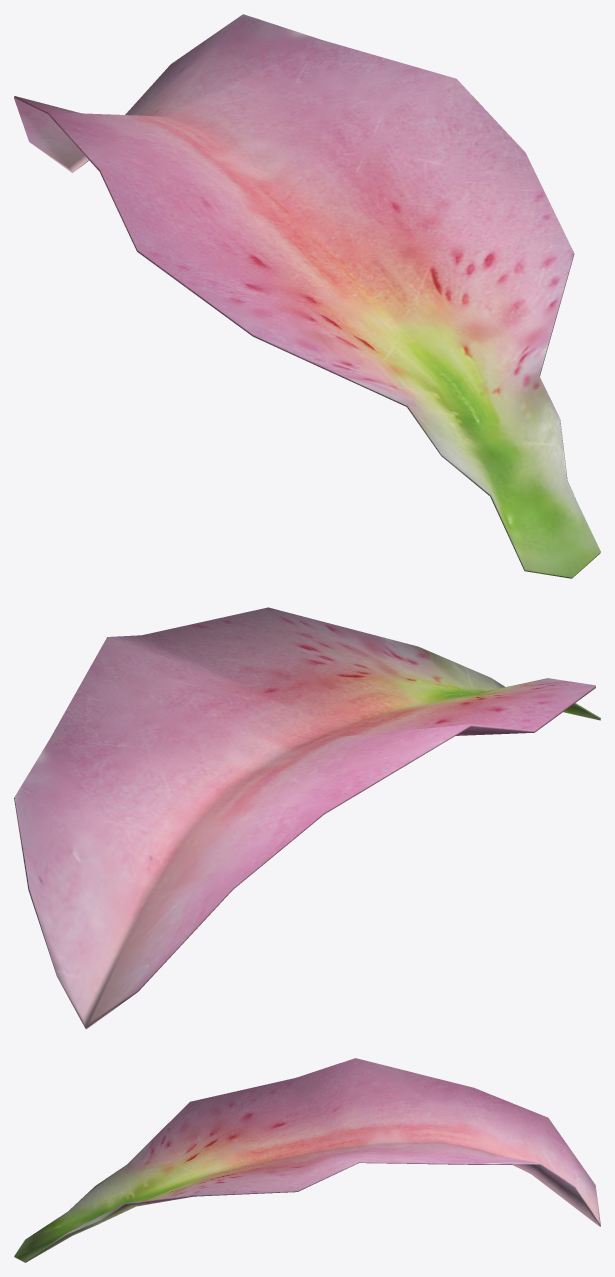
Rendered from Lily_PetalB_2.gltf.
The picture shows the model from 3 angles, top to bottom: view 1: azimuth 30°, elevation 25°; view 2: azimuth 150°, elevation 25°; view 3: azimuth 270°, elevation 25°; orthographic projection. The views are drawn at different scales.
Visible parts, largest first — view 1: PetalB.002; view 2: PetalB.002; view 3: PetalB.002.
Part boxes in pixels (left/top/right/bottom): PetalB.002: left=14, top=14, right=600, bottom=578; PetalB.002: left=14, top=607, right=600, bottom=1029; PetalB.002: left=14, top=1058, right=600, bottom=1262.
Size of the model in its own units: 2.11 by 1.27 by 4.61.
Materials: 1 (1 with a texture image).
